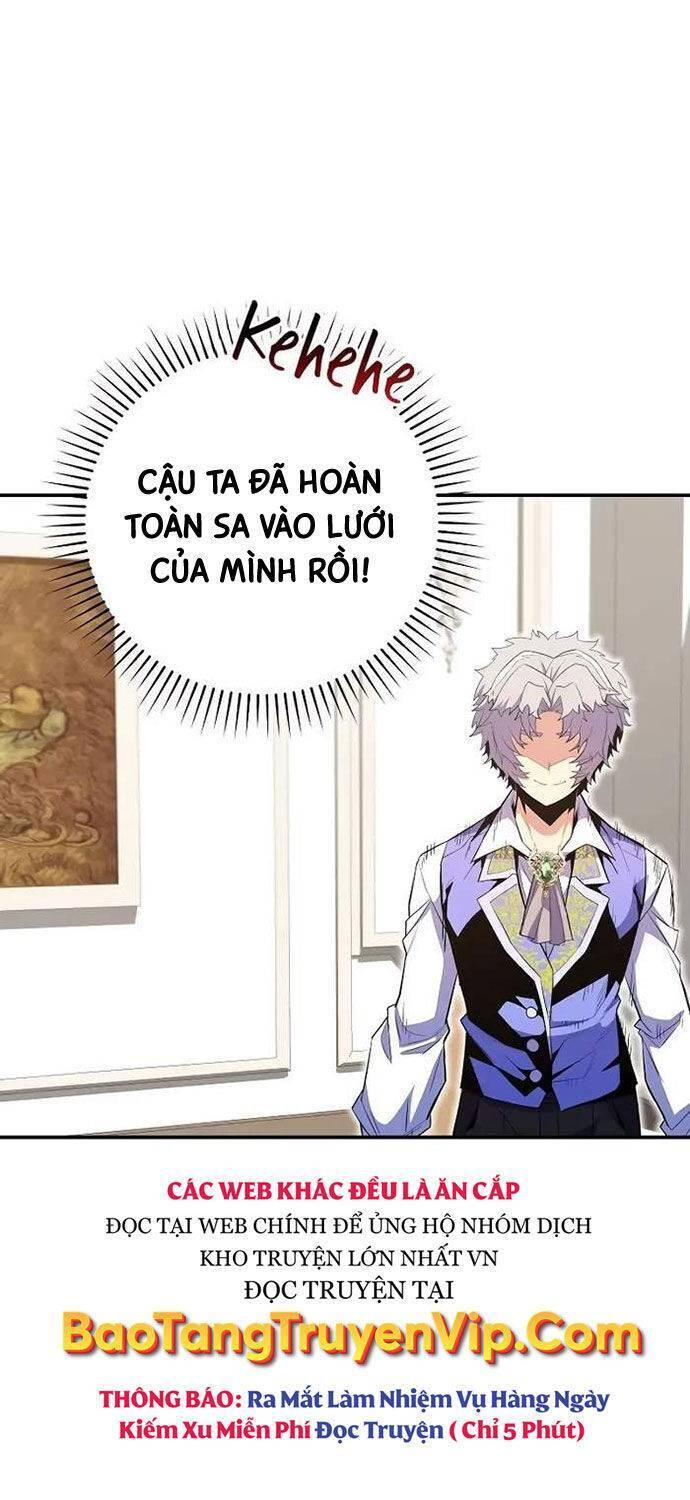quangcao: (54, 1166, 654, 1454)
